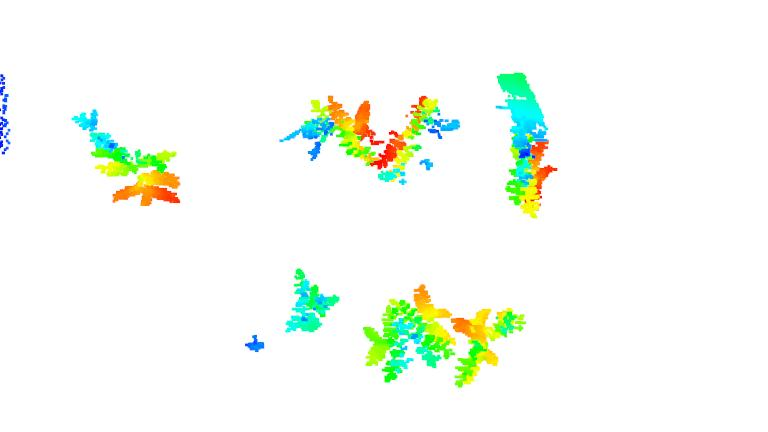chickpea: (363, 284, 453, 385), (375, 94, 456, 186), (279, 94, 375, 163), (448, 308, 527, 387), (94, 150, 189, 206), (506, 134, 555, 216), (282, 268, 342, 334), (73, 106, 116, 156)
